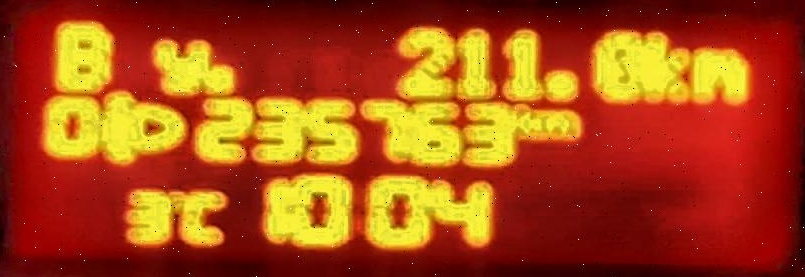-: (542, 66, 582, 103), (201, 62, 239, 95)
0: (362, 173, 432, 253), (288, 171, 354, 248), (39, 91, 104, 163), (589, 27, 644, 106)
1: (455, 25, 499, 101), (500, 28, 544, 101), (259, 174, 290, 244)
2: (392, 24, 458, 100), (191, 94, 253, 164)
3: (461, 98, 518, 170), (251, 95, 305, 165), (119, 187, 172, 248)
4: (430, 177, 497, 249)
5: (303, 96, 361, 167)
6: (405, 99, 462, 168)
7: (357, 97, 411, 164)
X: (50, 17, 116, 93), (147, 36, 211, 97), (690, 46, 754, 106), (641, 28, 690, 105), (176, 188, 228, 249), (543, 105, 584, 142), (519, 101, 542, 140)
